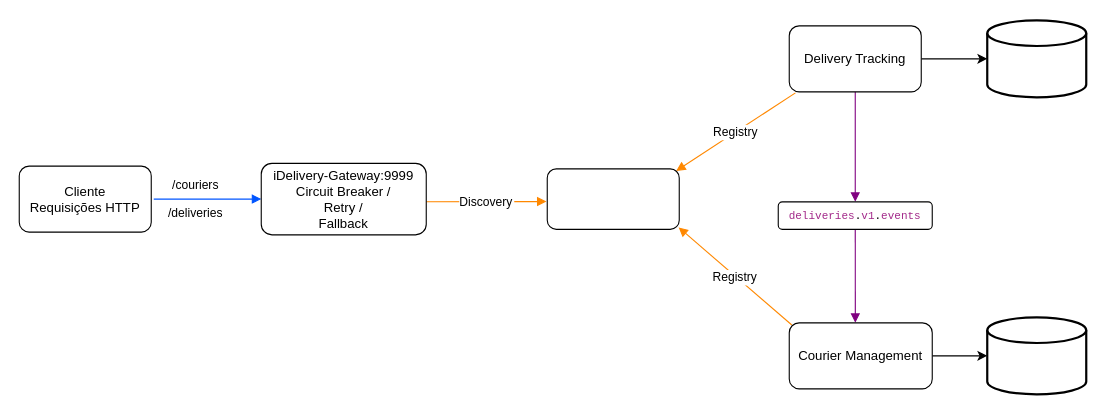
Some shapes in this 1107 by 414 pixel diagram are drawn without their labels. Here are the shapes that lost their labels. From the top down, the centre of each, then its label:
pixel 1036 58: DeliveryDB postgres:5433
pixel 612 198: Eureka Server:8761 Service Registry
pixel 1036 355: CourierDB postgres:5432
